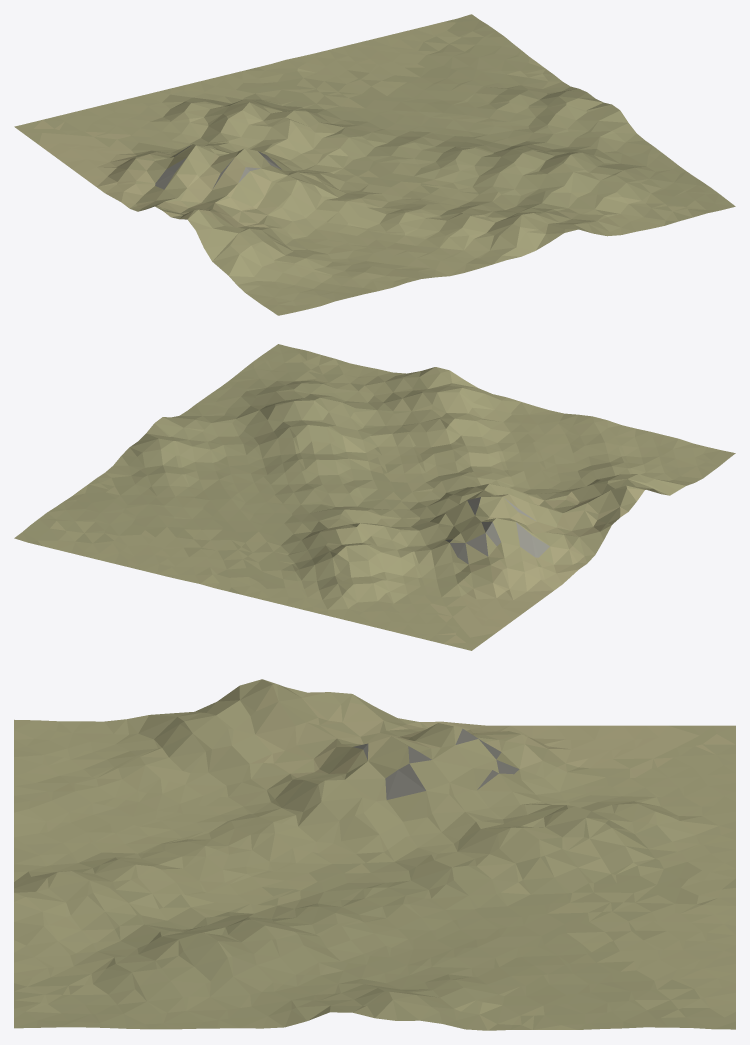
Rendered from Ground_0_-6.glb.
The picture shows the model from 3 angles, top to bottom: view 1: azimuth 30°, elevation 25°; view 2: azimuth 150°, elevation 25°; view 3: azimuth 270°, elevation 25°; orthographic projection. The views are drawn at different scales.
Parts seen in each view (by area): view 1: Ground_0_-6; view 2: Ground_0_-6; view 3: Ground_0_-6.
Boxes of the visible parts, bbox=[...] form: Ground_0_-6: bbox=[14, 14, 735, 315]; Ground_0_-6: bbox=[14, 344, 735, 650]; Ground_0_-6: bbox=[14, 679, 735, 1030].
Bounding box in the file's own units: 768 × 62.72 × 768.
